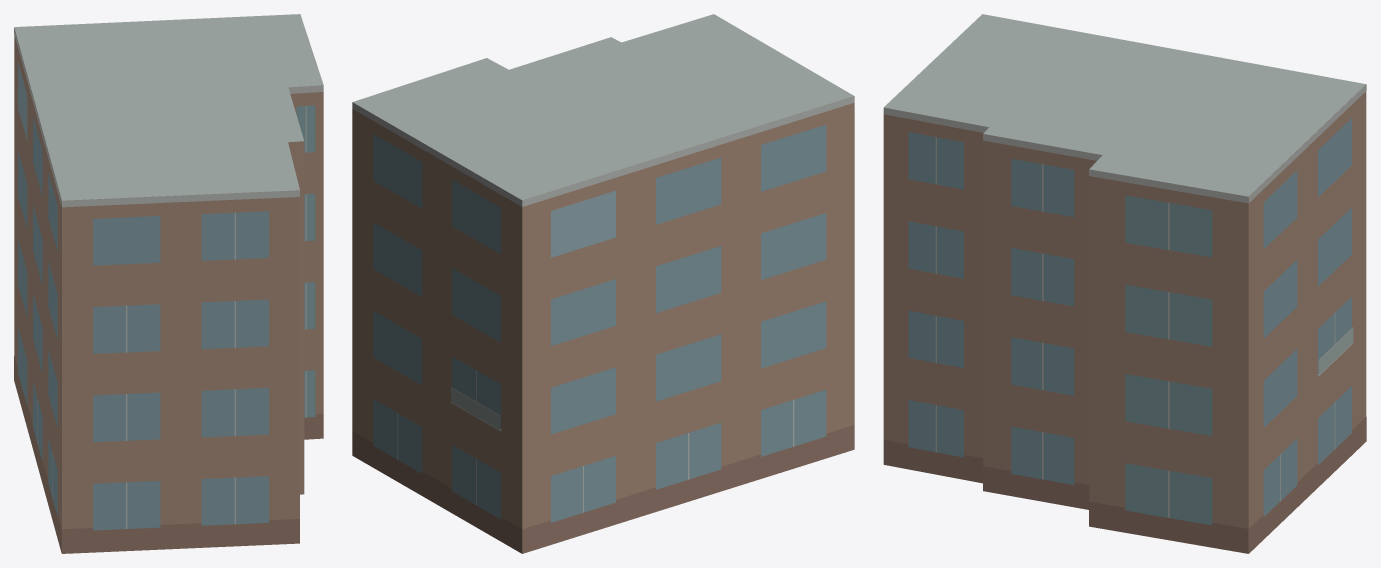
Rendered from survey-upis-32778751.glb.
3 views of the same model, side by side, from view 1: azimuth 30°, elevation 25°; view 2: azimuth 150°, elevation 25°; view 3: azimuth 270°, elevation 25° (orthographic).
Visible parts, largest first — view 1: survey-upis-32778751.tmp; view 2: survey-upis-32778751.tmp; view 3: survey-upis-32778751.tmp.
Part boxes in pixels (left/top/right/bottom): survey-upis-32778751.tmp: left=14, top=14, right=323, bottom=553; survey-upis-32778751.tmp: left=352, top=14, right=854, bottom=553; survey-upis-32778751.tmp: left=883, top=14, right=1366, bottom=553.
Size of the model in its own units: 14.25 by 12.98 by 15.91.
